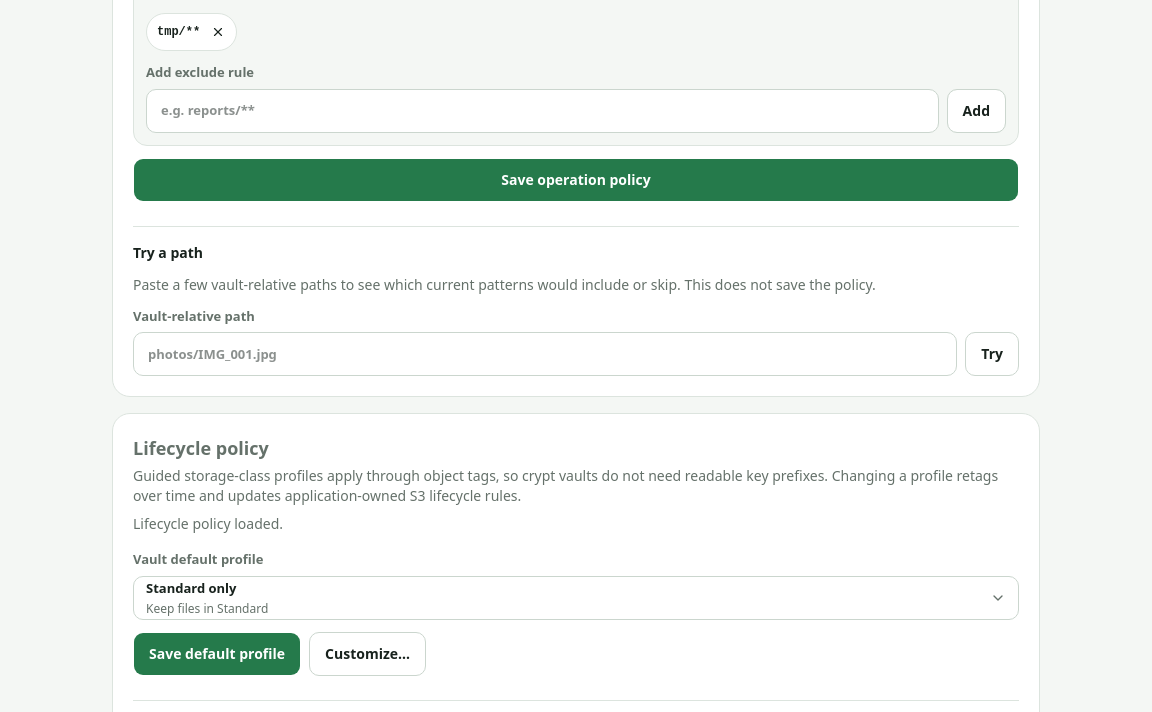
Test: VaultAccessPage — operation policy globs (seam 6) › explains a path skipped by an exclude rule
This screenshot has width=1152, height=712.
(page scrolled)
Type "tmp/b.txt" into the field labelled "Vault-relative path". click: coordinates (545, 354)
box: top-left (133, 332), bottom-right (957, 376)
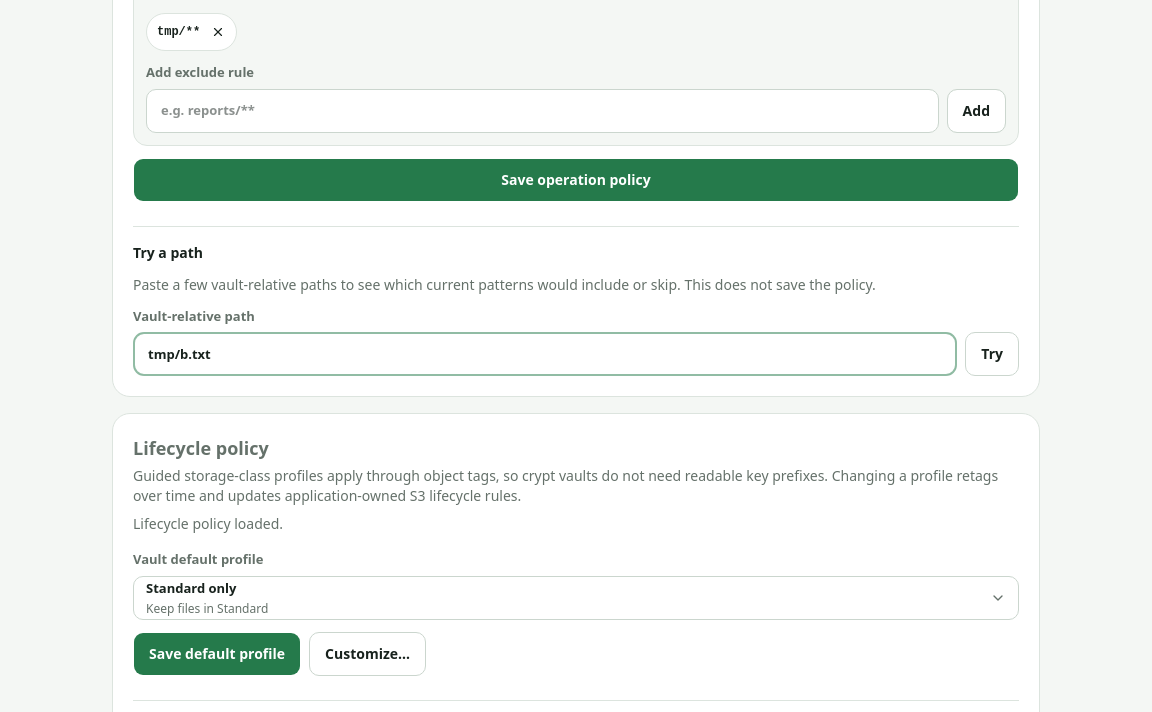
Click the button "Try". click: coordinates (992, 354)
box: top-left (965, 332), bottom-right (1019, 376)
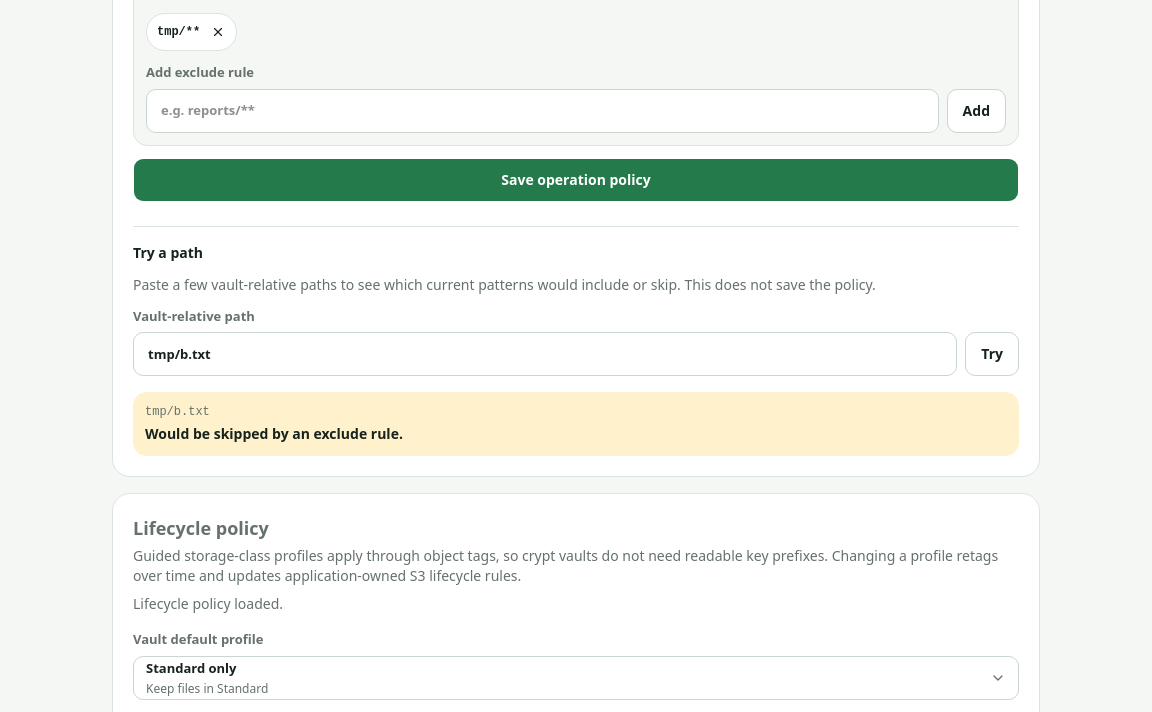
Check: the element with test id "glob-preview" shows "skipped by an exclude rule", box top-left (145, 424), bottom-right (403, 443)
